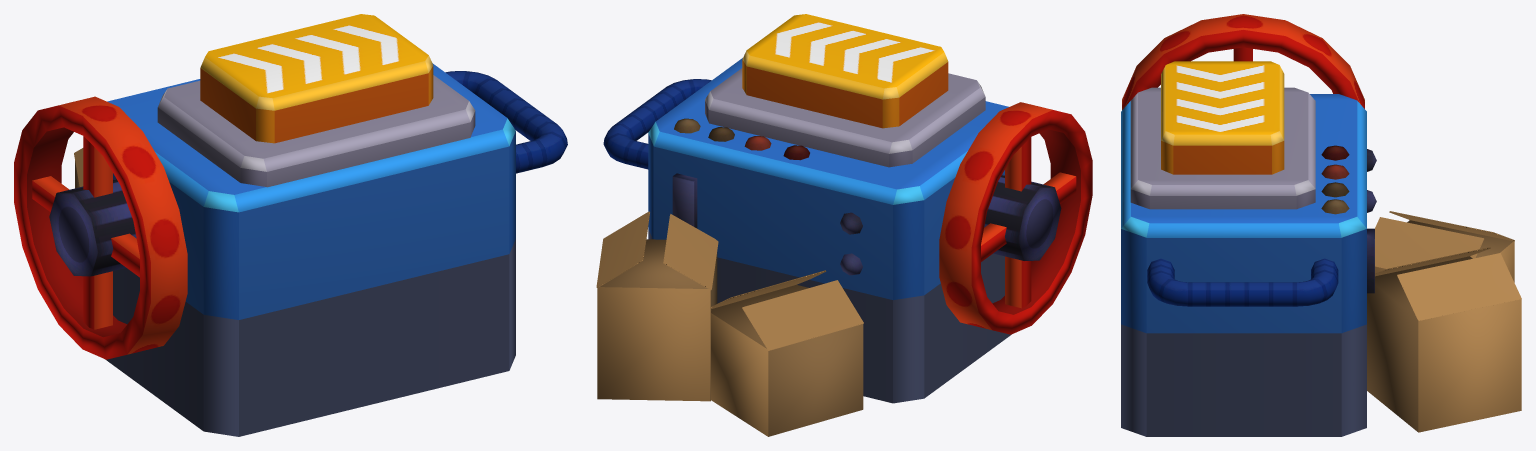
The model's file is WorkshopOdysseyStatue.fbx.
The picture shows the model from 3 angles, left to right: view 1: azimuth 30°, elevation 25°; view 2: azimuth 150°, elevation 25°; view 3: azimuth 270°, elevation 25°; orthographic projection. The views are drawn at different scales.
Visible parts, largest first — view 1: WorkshopOdysseyStatue; view 2: WorkshopOdysseyStatue; view 3: WorkshopOdysseyStatue.
Part boxes in pixels (left/top/right/bottom): WorkshopOdysseyStatue: left=14, top=14, right=567, bottom=436; WorkshopOdysseyStatue: left=596, top=14, right=1092, bottom=436; WorkshopOdysseyStatue: left=1121, top=14, right=1521, bottom=436.
Bounding box in the file's own units: 20.39 × 13.04 × 17.46.
